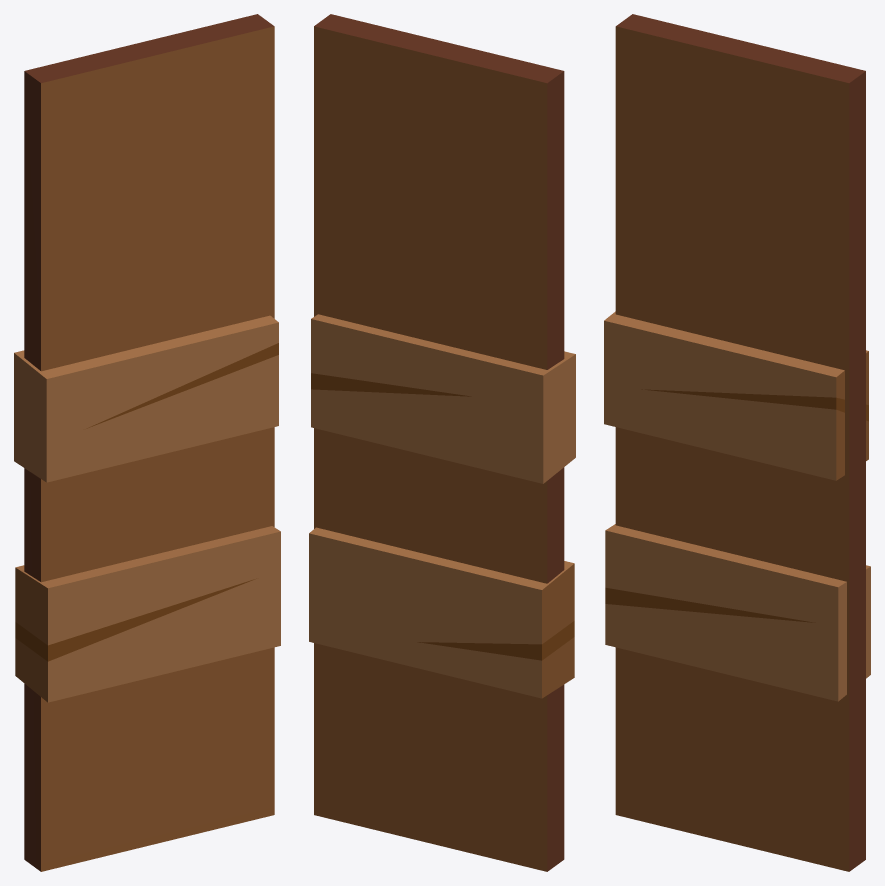
The model's file is door_r.fbx.
3 renders of one model, left to right at view 1: azimuth 30°, elevation 25°; view 2: azimuth 150°, elevation 25°; view 3: azimuth 330°, elevation 25°, orthographic.
Parts seen in each view (by area): view 1: door_r; view 2: door_r; view 3: door_r.
Part boxes in pixels (x1,y1,x2,y2): door_r: (14,14,280,871); door_r: (309,14,575,871); door_r: (604,14,870,871).
Size of the model in its own units: 72.51 by 231 by 17.33.
